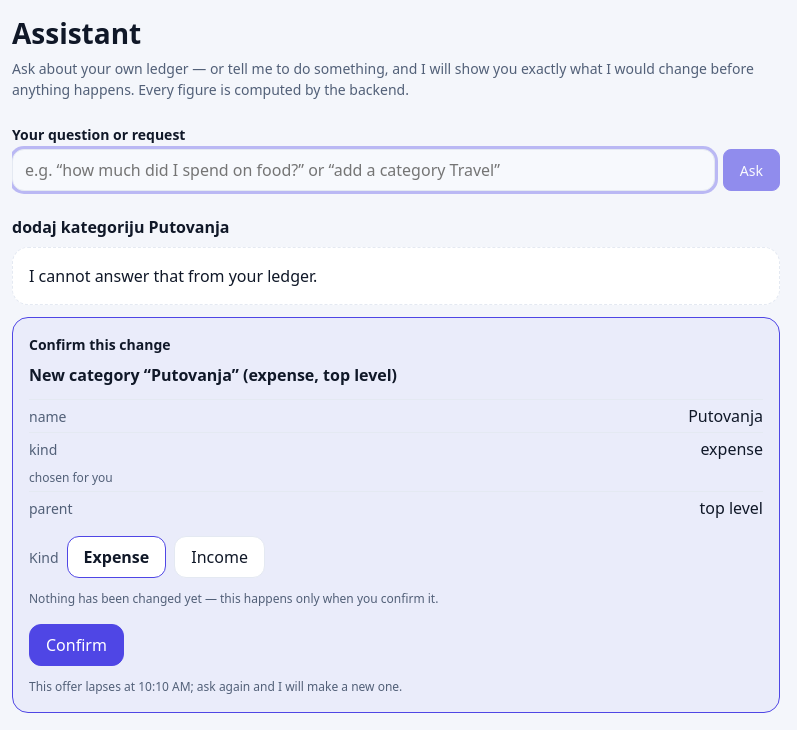
Test: the assistant write path (B-2b) › reuses the same idempotency key for a repeated confirm
Click the button with class "act__confirm" at (76, 645), box 29,624 -> 124,666
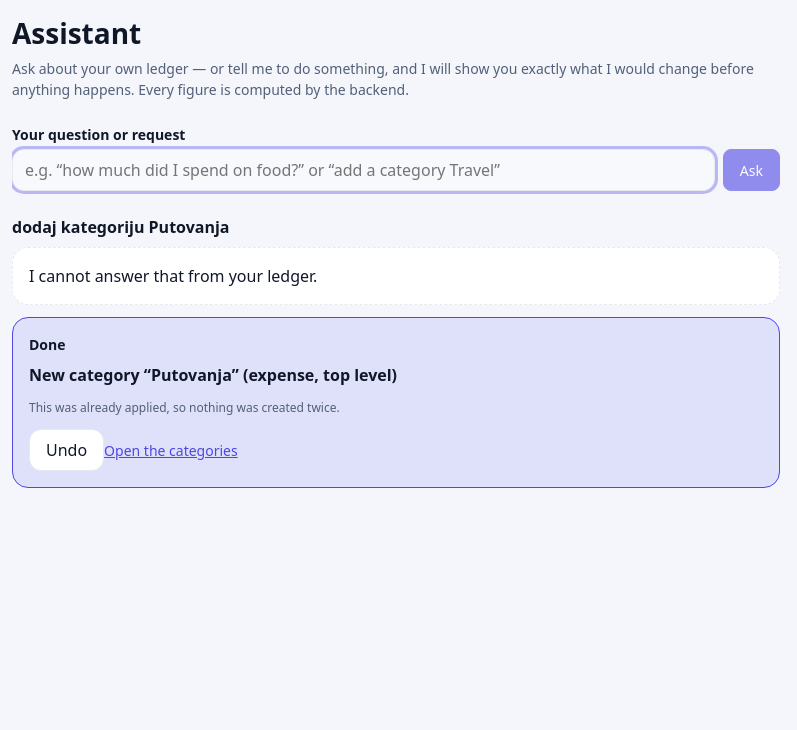
Expected: the text "nothing was created twice" is shown, 29,399 -> 340,416
